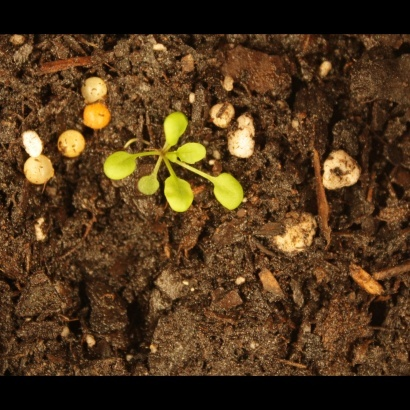leaf: (211, 169, 250, 216), (162, 170, 195, 218), (96, 149, 141, 183), (160, 104, 193, 150), (174, 140, 210, 167), (136, 169, 162, 198)
